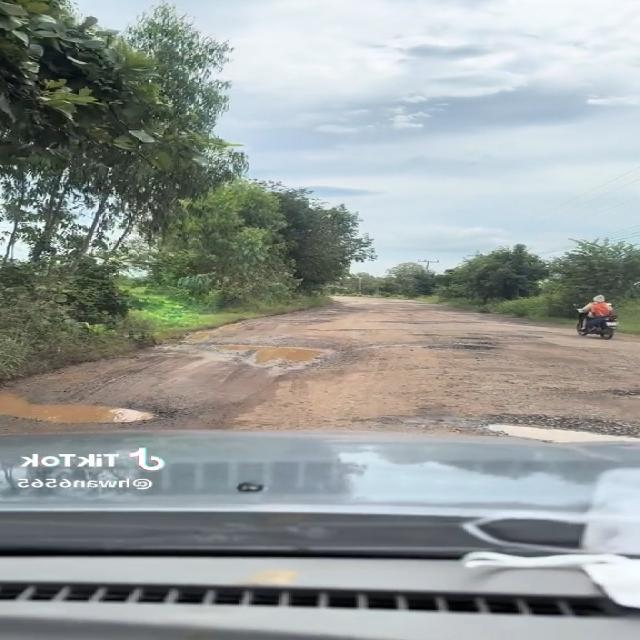Poth-hole: (359, 326, 499, 392)
